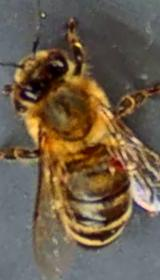varroa_mite: (99, 156, 138, 188)
